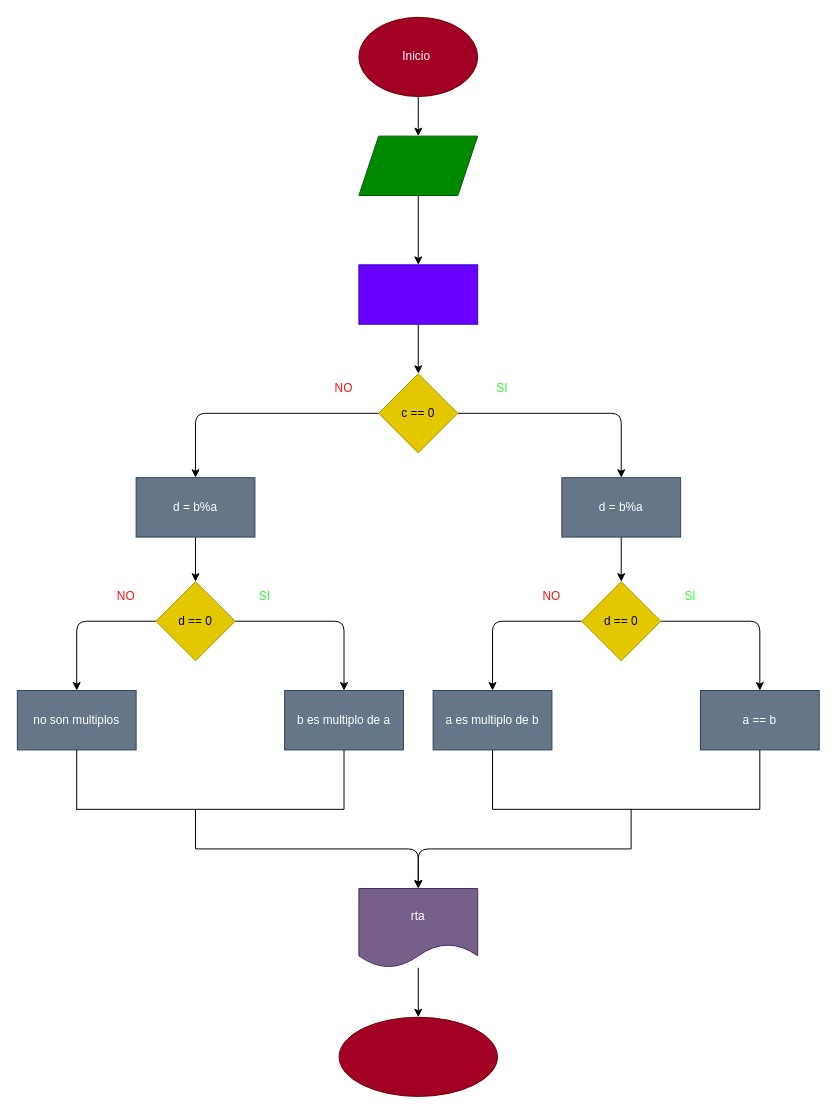
Image size: 837x1114. Some labels were removed from this diagram. The box of each missing label's shape, as (x1, y1, x2, y2) in pixels:
a,b: (358, 135, 478, 196)
c=a%b: (358, 264, 478, 324)
Fin: (338, 1016, 497, 1096)
